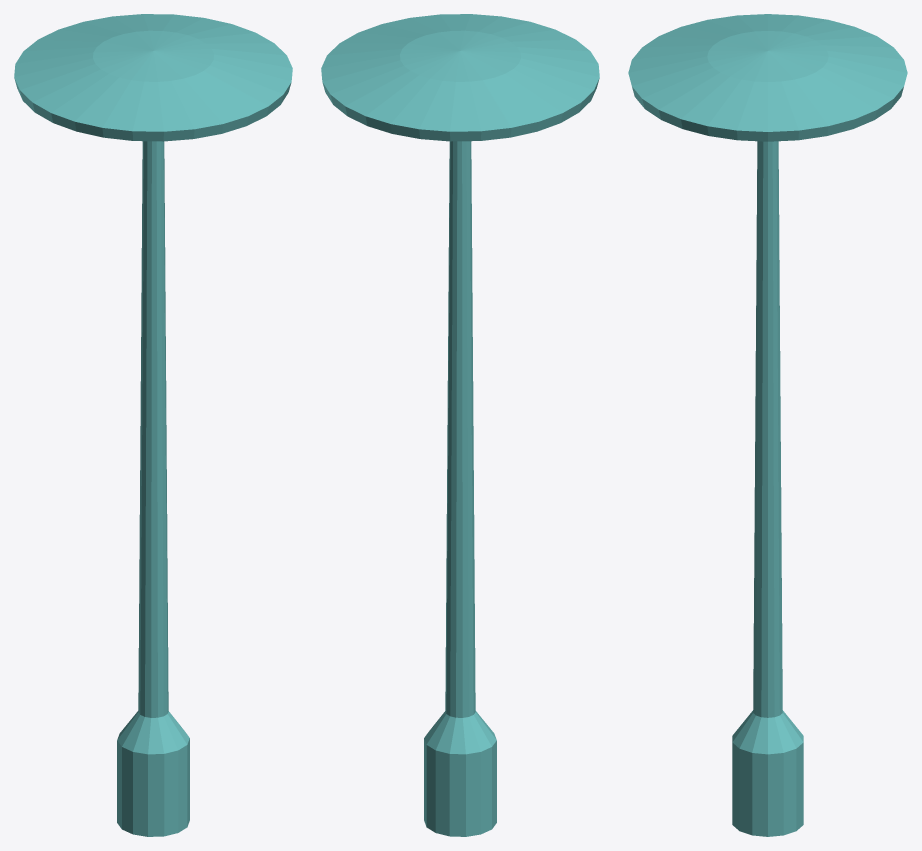
Rendered from disc_lamp.glb.
The picture shows the model from 3 angles, left to right: view 1: azimuth 30°, elevation 25°; view 2: azimuth 150°, elevation 25°; view 3: azimuth 270°, elevation 25°; orthographic projection.
Visible parts, largest first — view 1: disc_lamp_teal; view 2: disc_lamp_teal; view 3: disc_lamp_teal.
Part boxes in pixels (bbox=[...]): disc_lamp_teal: bbox=[14, 14, 292, 836]; disc_lamp_teal: bbox=[321, 14, 599, 836]; disc_lamp_teal: bbox=[628, 14, 907, 836].
Bounding box in the file's own units: 0.92 × 2.8 × 0.92.
